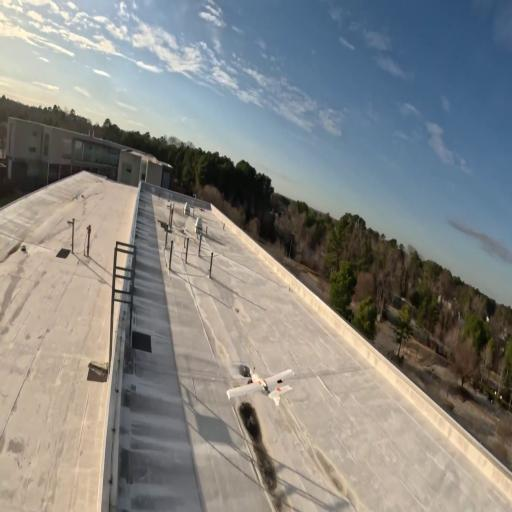uav: (222, 364, 297, 410)
